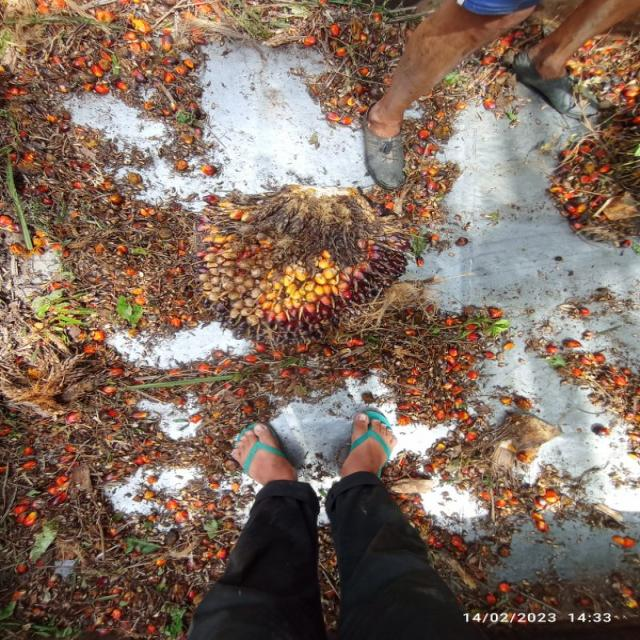fraksi 00: (176, 195, 408, 354)
